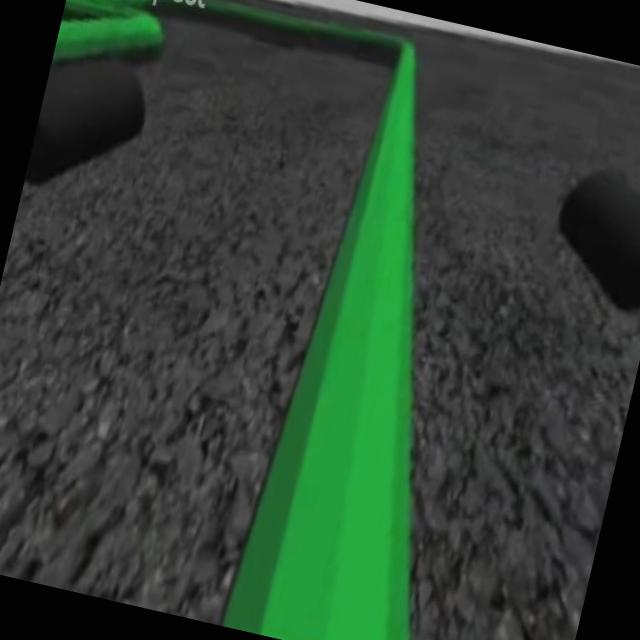gas: (218, 46, 542, 640)
